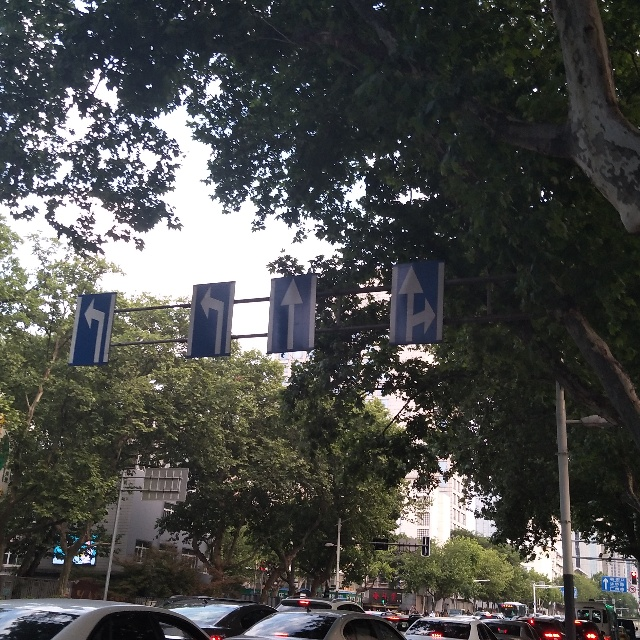left: (195, 284, 234, 357), (81, 292, 106, 366)
straight: (274, 278, 313, 353)
